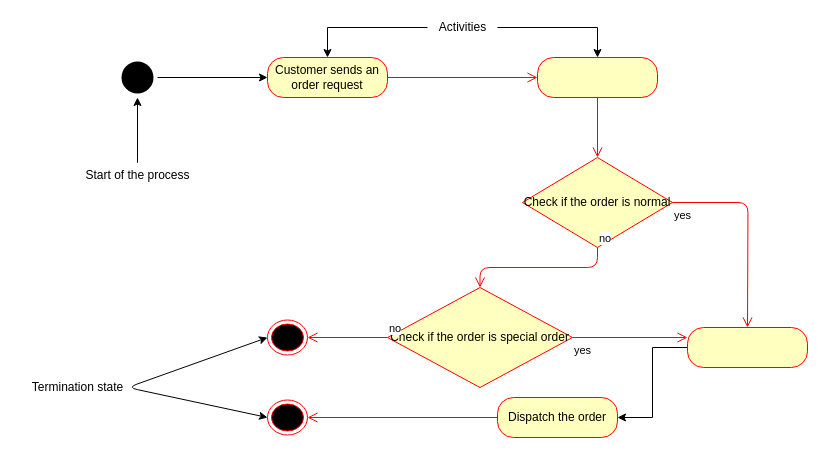
Some shapes in this 825 by 455 pixel diagram are drawn without their labels. Each missing label, with the centre of its shape:
Confirm the order: the point at 747,347
Order system confirms the order receipt: the point at 597,77
